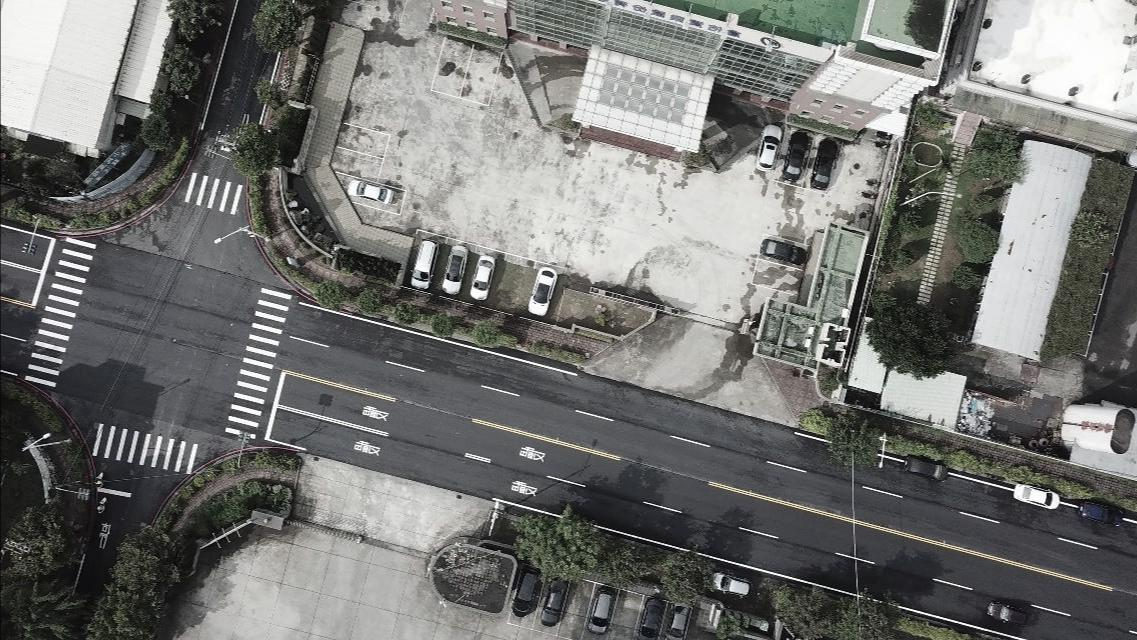vehicle: (409, 237, 438, 290), (1013, 480, 1058, 513), (759, 238, 808, 268), (810, 137, 837, 191), (511, 567, 539, 619), (346, 179, 396, 208), (527, 266, 556, 315), (901, 453, 948, 483), (441, 243, 467, 297), (1078, 499, 1127, 527), (540, 577, 567, 626), (754, 124, 782, 171), (986, 598, 1029, 628), (586, 588, 614, 634), (783, 130, 808, 181), (469, 256, 495, 302), (708, 571, 752, 597), (639, 597, 664, 639), (667, 600, 693, 639)
